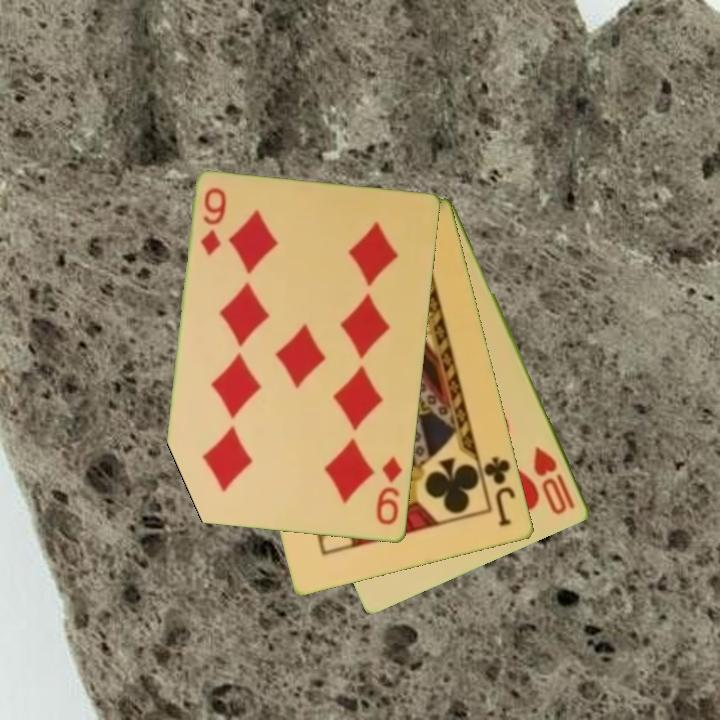10h: (530, 443, 579, 519)
9d: (197, 184, 230, 259), (373, 453, 405, 528)
Jc: (481, 453, 519, 530)
